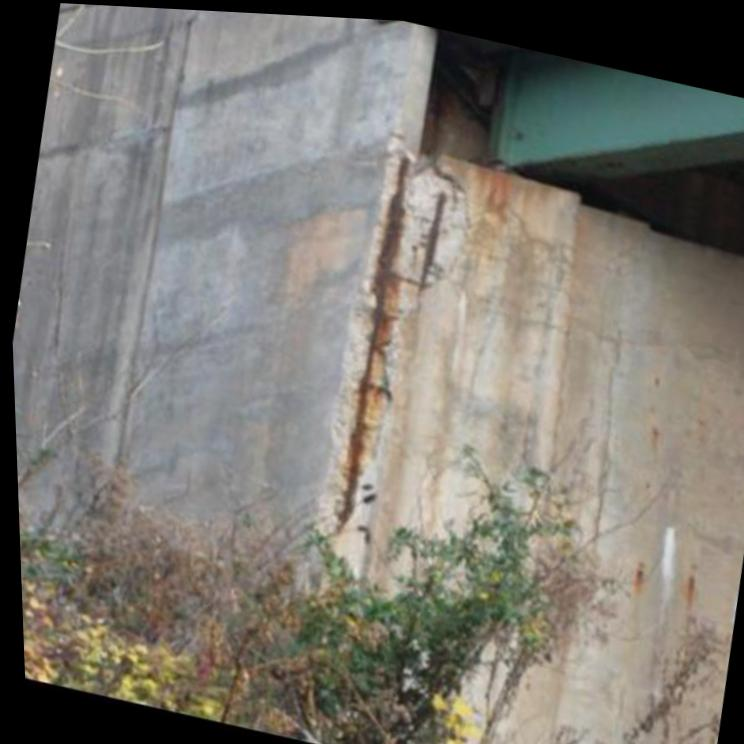damage: (305, 115, 469, 542)
